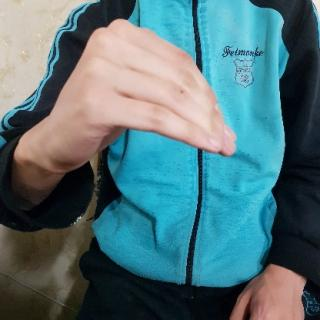HAA: (27, 14, 243, 184)
